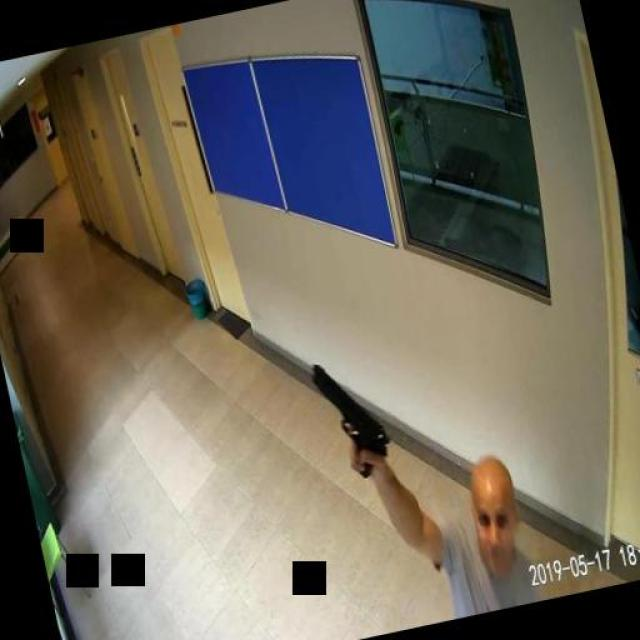gun: (308, 350, 392, 481)
